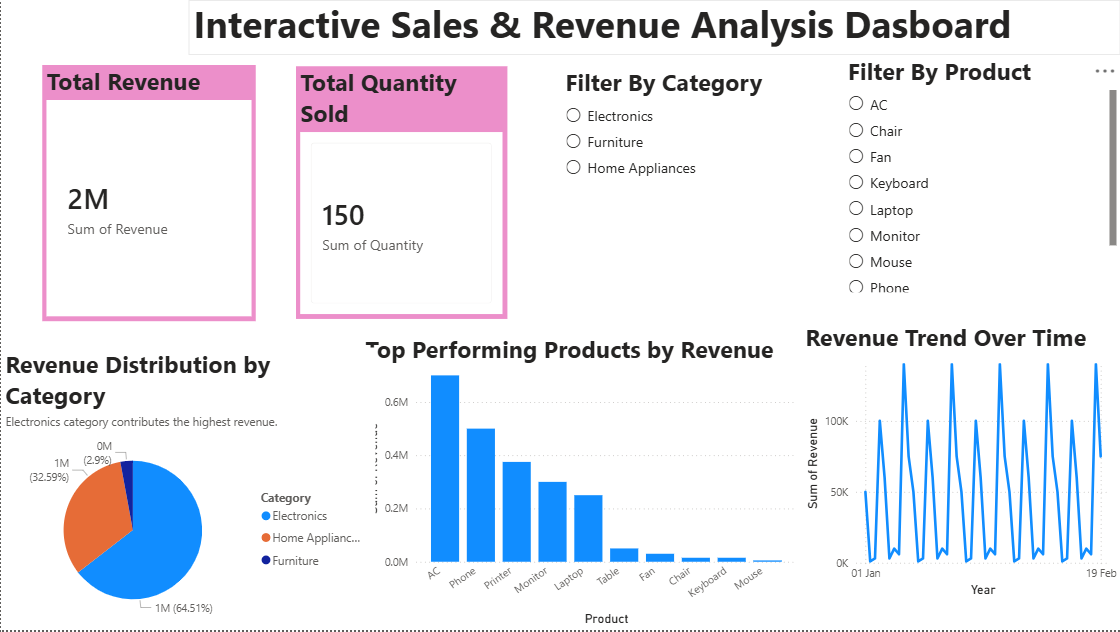

The dashboard page shown, as its layout file describes it:
{"tool":"powerbi","page":{"name":"Page 1","canvas":[1280,720],"ordinal":0},"visuals":[{"type":"lineChart","title":"Revenue Trend Over Time","fields":{"Y":["Sum(SalesData.Revenue)"],"Category":["SalesData.Date.Variation.Date Hierarchy.Year","SalesData.Date.Variation.Date Hierarchy.Quarter","SalesData.Date.Variation.Date Hierarchy.Month","SalesData.Date.Variation.Date Hierarchy.Day"]},"box":[914.3,367.1,365.7,320],"z":0},{"type":"clusteredColumnChart","title":"Top Performing Products by Revenue","fields":{"Category":["SalesData.Product"],"Y":["Sum(SalesData.Revenue)"]},"box":[411.4,380,502.9,340],"z":1},{"type":"pieChart","title":"Revenue Distribution by Category","fields":{"Category":["SalesData.Category"],"Y":["Sum(SalesData.Revenue)"]},"box":[0,396.7,427.8,323.3],"z":2},{"type":"cardVisual","title":"Total Revenue","fields":{"Data":["Sum(SalesData.Revenue)"]},"box":[47.1,74.3,244.3,292.9],"z":3},{"type":"cardVisual","title":"Total Quantity Sold","fields":{"Data":["Sum(SalesData.Quantity)"]},"box":[337.1,75.7,241.4,288.6],"z":4},{"type":"listSlicer","title":" Filter By  Product ","fields":{"Values":["SalesData.Product"]},"box":[962.9,62.9,317.1,277.1],"z":6},{"type":"listSlicer","title":"Filter By Category","fields":{"Values":["SalesData.Category"]},"box":[640,75.7,252.9,284.3],"z":7},{"type":"textbox","title":"Interactive Sales & Revenue Analysis Dasboard","box":[214.3,0,1065.7,62.9],"z":8}]}

Visuals, with their boxes in screenshot pixels (x1, y1, x2, y2), scaled from the page's 1280x720 canvas onto the 1120x632 screenshot:
"Revenue Trend Over Time" lineChart: bbox=(800, 322, 1119, 603)
"Top Performing Products by Revenue" clusteredColumnChart: bbox=(360, 334, 800, 631)
"Revenue Distribution by Category" pieChart: bbox=(0, 348, 374, 631)
"Total Revenue" cardVisual: bbox=(41, 65, 255, 322)
"Total Quantity Sold" cardVisual: bbox=(295, 66, 506, 320)
" Filter By  Product " listSlicer: bbox=(843, 55, 1119, 298)
"Filter By Category" listSlicer: bbox=(560, 66, 781, 316)
"Interactive Sales & Revenue Analysis Dasboard" textbox: bbox=(188, 0, 1119, 55)
